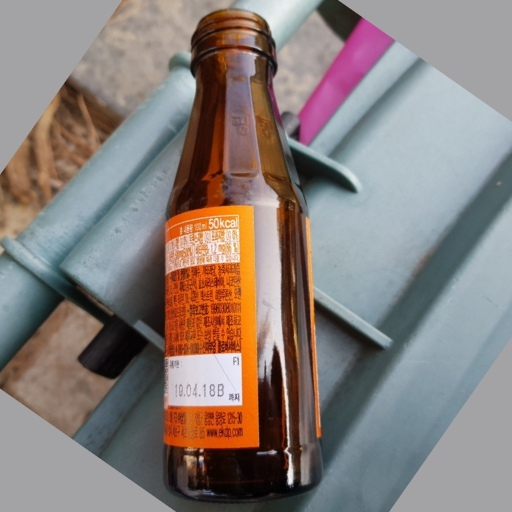Glass_3: (159, 7, 326, 506)
